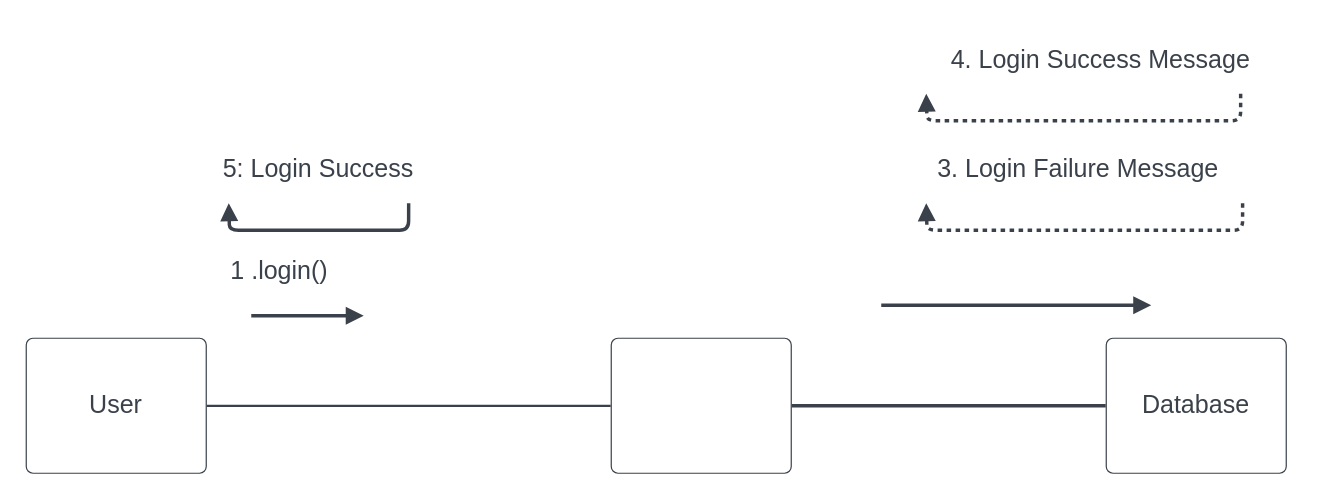
The diagram is 1325 pixels wide and 500 high, and some of its shapes have lost their labels. Each missing label, with the centre of its shape:
"2. Verify Login()" goes at pixel 993 270.
"Login Page" goes at pixel 700 405.
